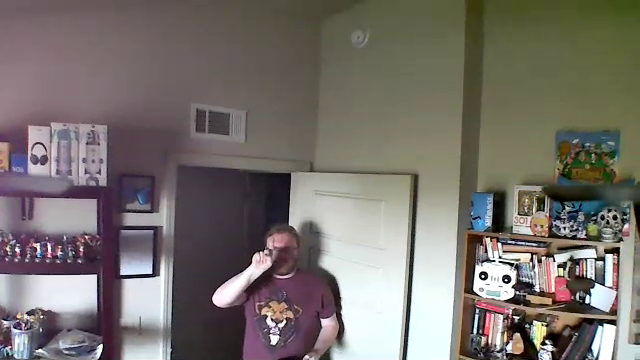up: (247, 233, 280, 273)
